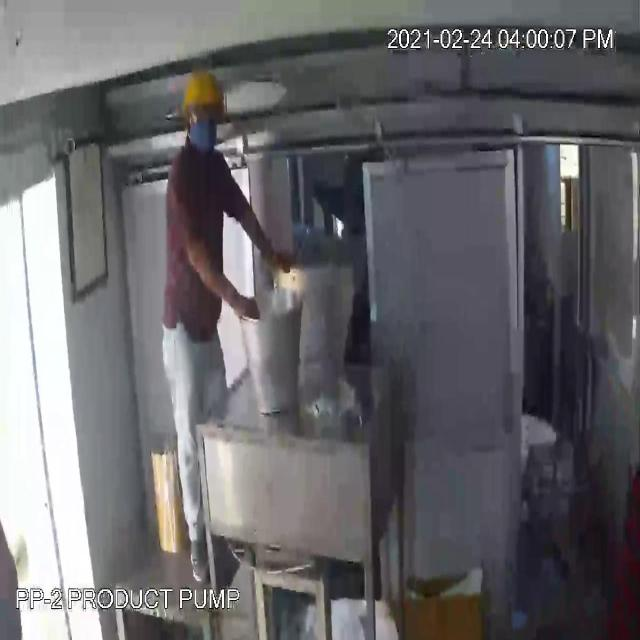helmet: (175, 64, 233, 132)
